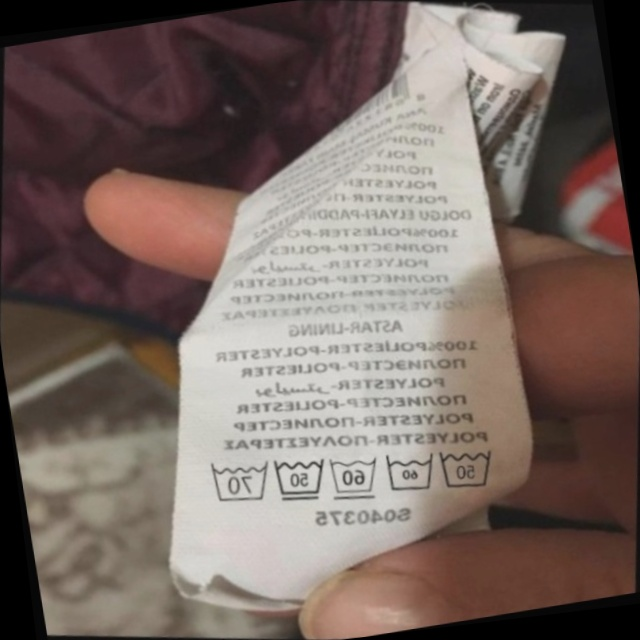50C: (426, 431, 507, 504), (261, 444, 335, 514)
60C: (316, 443, 387, 510), (373, 440, 444, 505)
70C: (196, 447, 277, 515)
